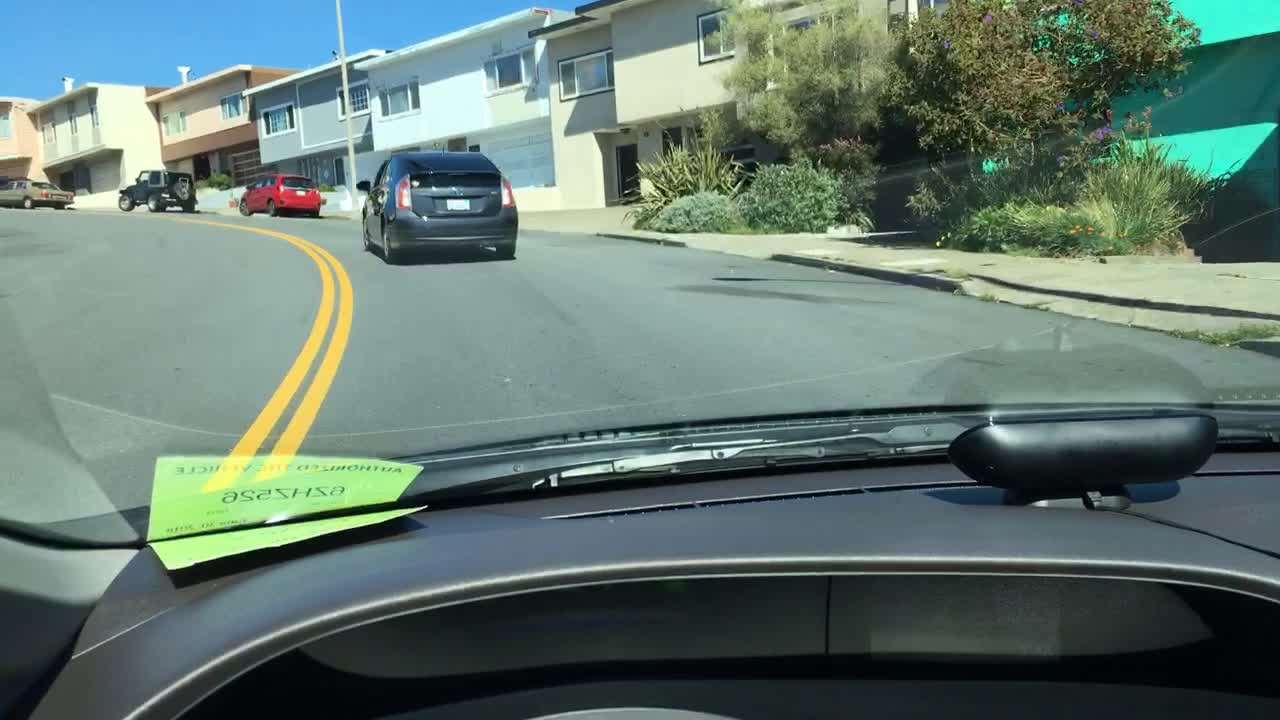car: (356, 148, 520, 264), (238, 172, 323, 218), (116, 169, 202, 213), (1, 177, 77, 212)
